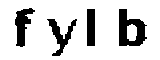b: (115, 6, 150, 54)
f: (10, 5, 40, 50)
l: (83, 4, 101, 53)
y: (44, 14, 81, 60)
